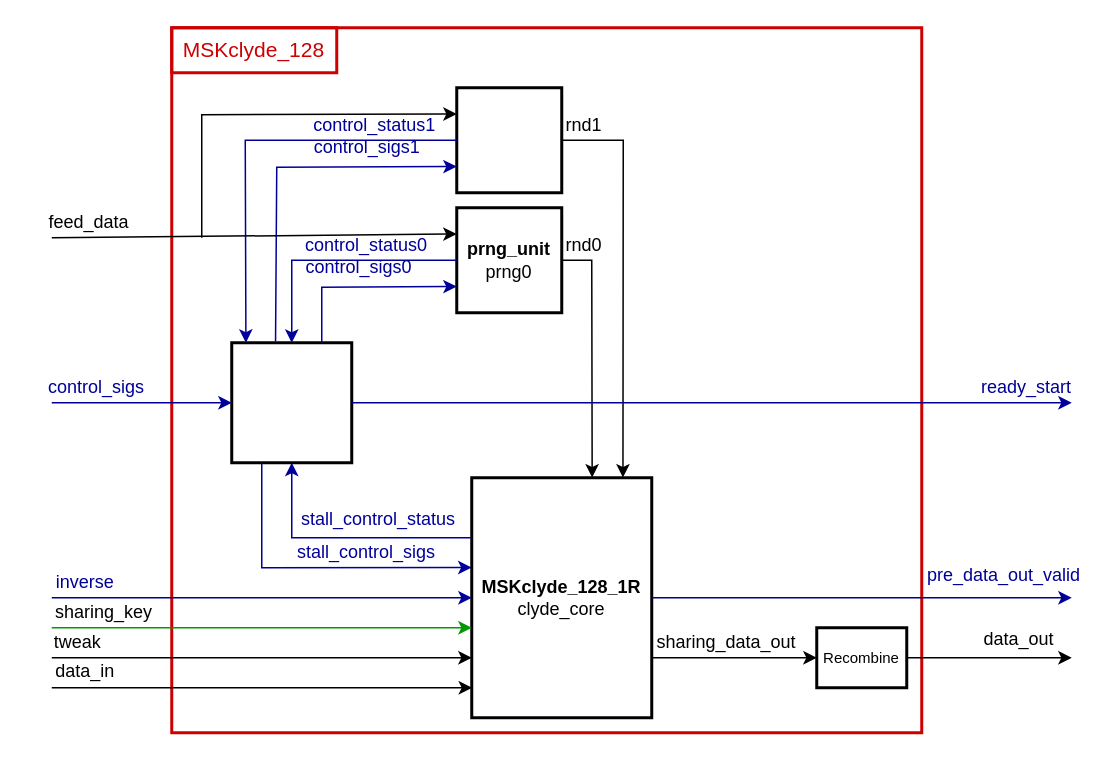
The diagram is 1112 pixels wide and 759 high, and some of its shapes have lost their labels. The box of each missing label's shape, as (x1, y1, x2, y2) in pixels:
prng_unit prng1: (454, 86, 562, 194)
stalling_unit stall_core: (230, 340, 352, 464)
